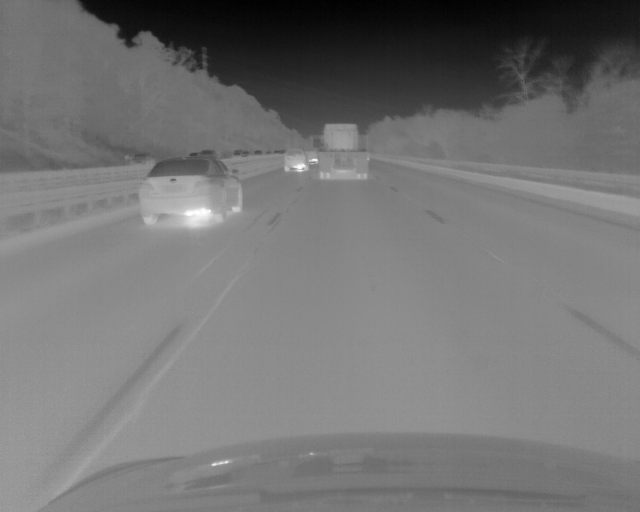car: (137, 158, 243, 225), (319, 122, 369, 179), (285, 149, 309, 172), (128, 154, 154, 165), (307, 149, 318, 164), (202, 150, 217, 157), (274, 148, 285, 154), (233, 150, 242, 157), (189, 151, 199, 157), (254, 150, 262, 156), (242, 150, 249, 156), (266, 150, 271, 155)
